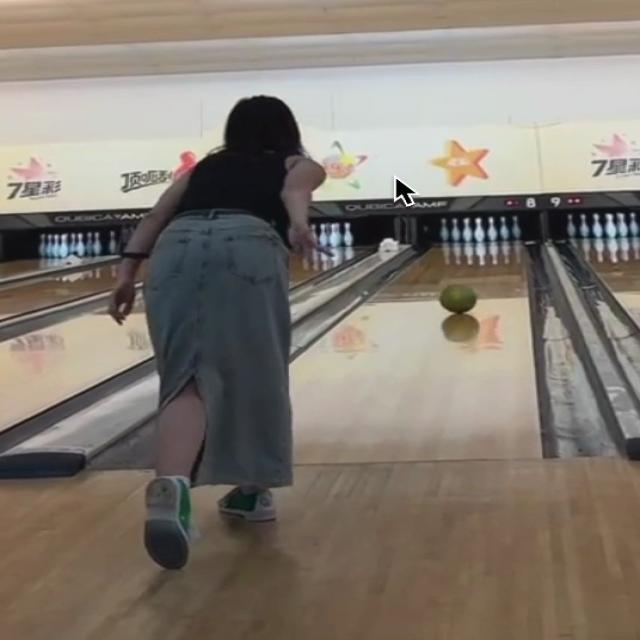alley: (293, 239, 540, 464)
balls: (439, 284, 476, 314)
bottle: (441, 215, 519, 242)
